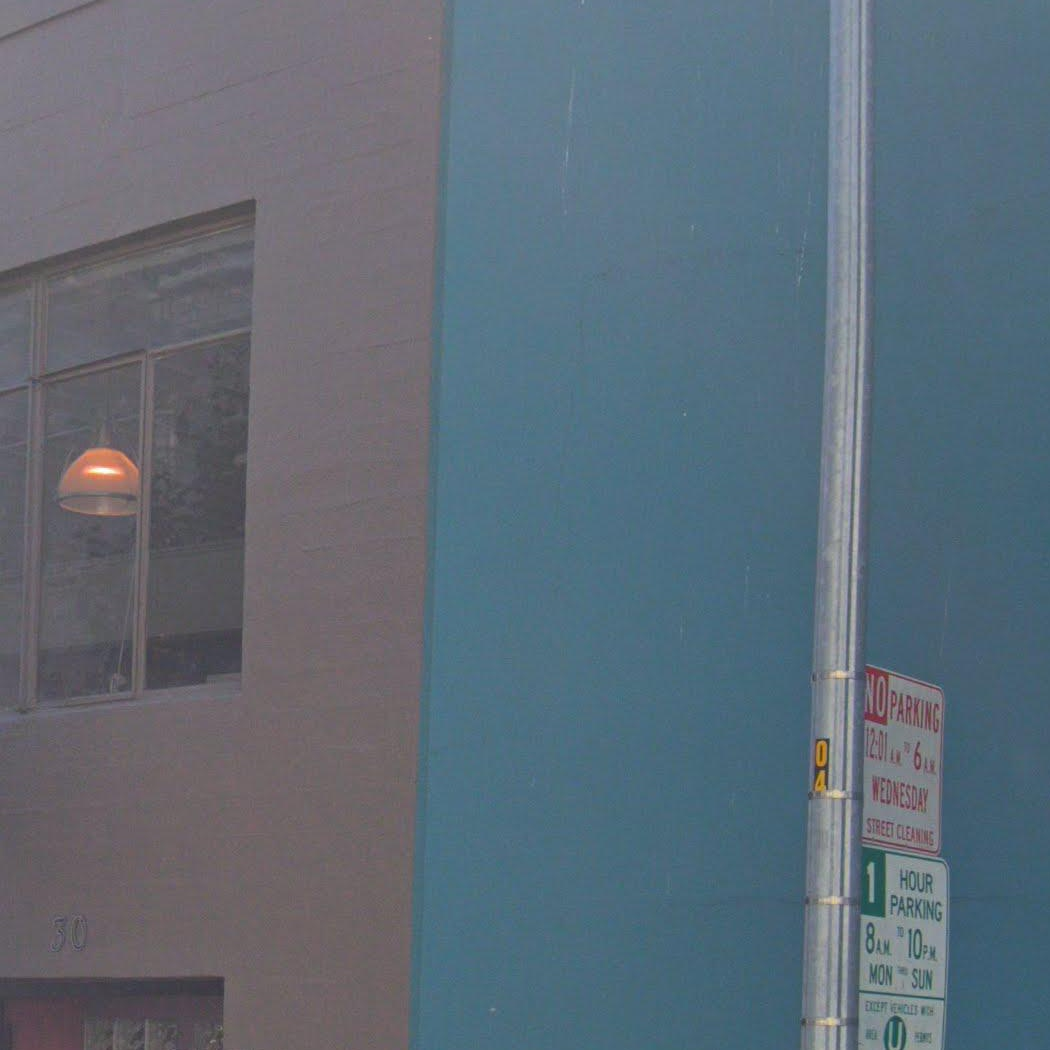1 Hour Parking: (853, 844, 951, 1050)
No Parking: (857, 659, 949, 859)
